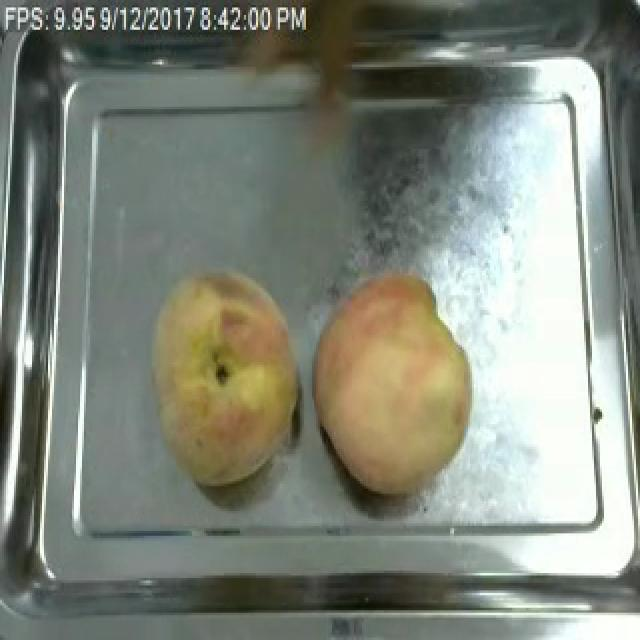Fruit: (302, 263, 482, 501), (142, 268, 310, 494)
